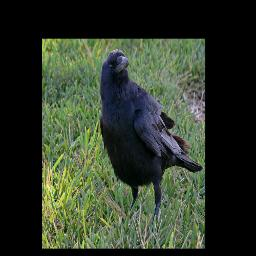Crow: (99, 49, 203, 229)
